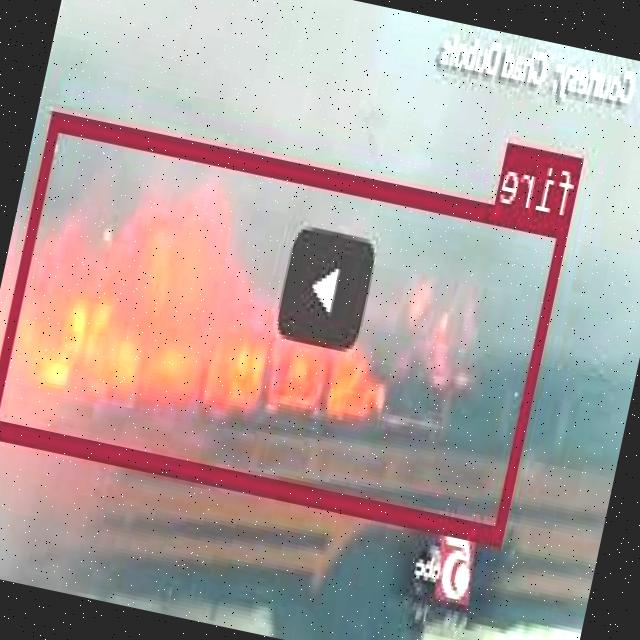fire: (0, 107, 571, 540)
